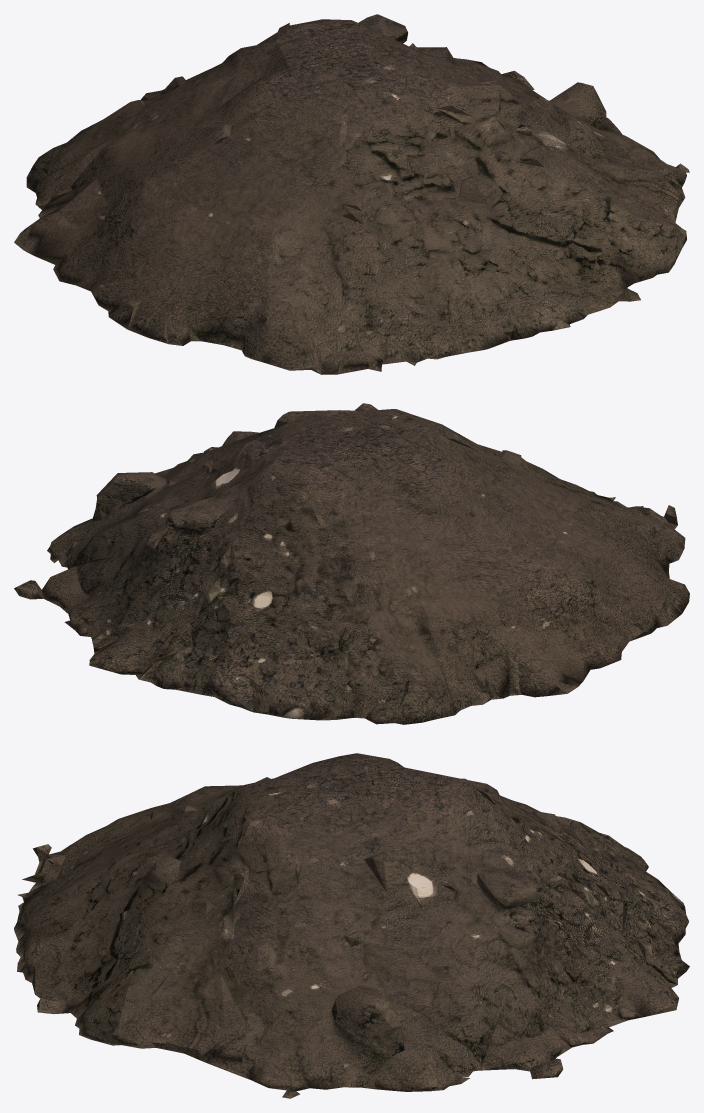
The model's file is Monticule.fbx.
3 renders of one model, top to bottom at view 1: azimuth 30°, elevation 25°; view 2: azimuth 150°, elevation 25°; view 3: azimuth 270°, elevation 25°, orthographic. The views are drawn at different scales.
Visible parts, largest first — view 1: Mesh_0; view 2: Mesh_0; view 3: Mesh_0.
Part boxes in pixels (x1,y1,x2,y2): Mesh_0: (14,14,689,374); Mesh_0: (14,403,689,724); Mesh_0: (14,753,689,1098).
Bounding box in the file's own units: 187 × 48.58 × 183.
Materials: 1 (1 with a texture image).
